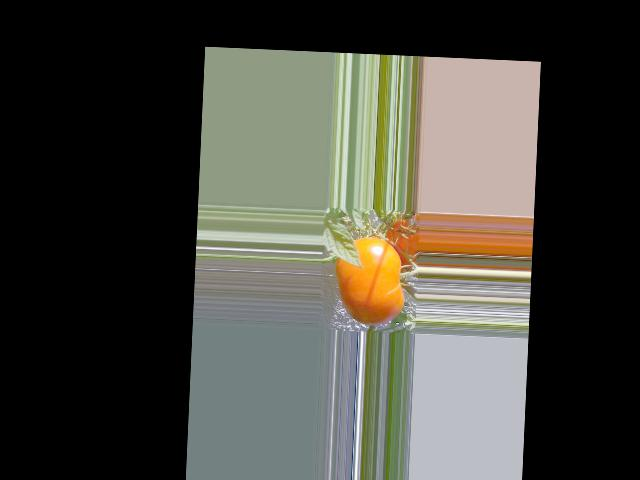tomato: (333, 235, 406, 326)
